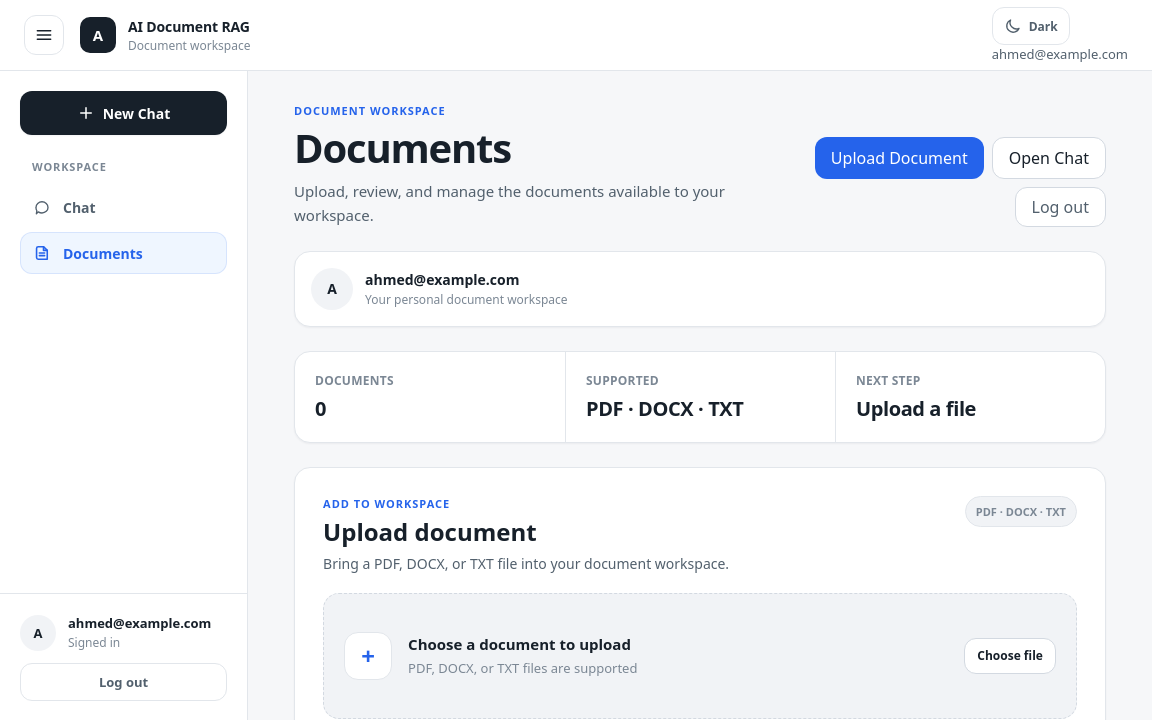
Test case: frontend authentication foundation › logs out from the shared shell
Expected: the heading "Documents" is shown, x1=294 y1=120 x2=511 y2=175
Step 1. Click the button with aria-label "Log out from application" → click(124, 682), box x1=20 y1=663 x2=227 y2=701
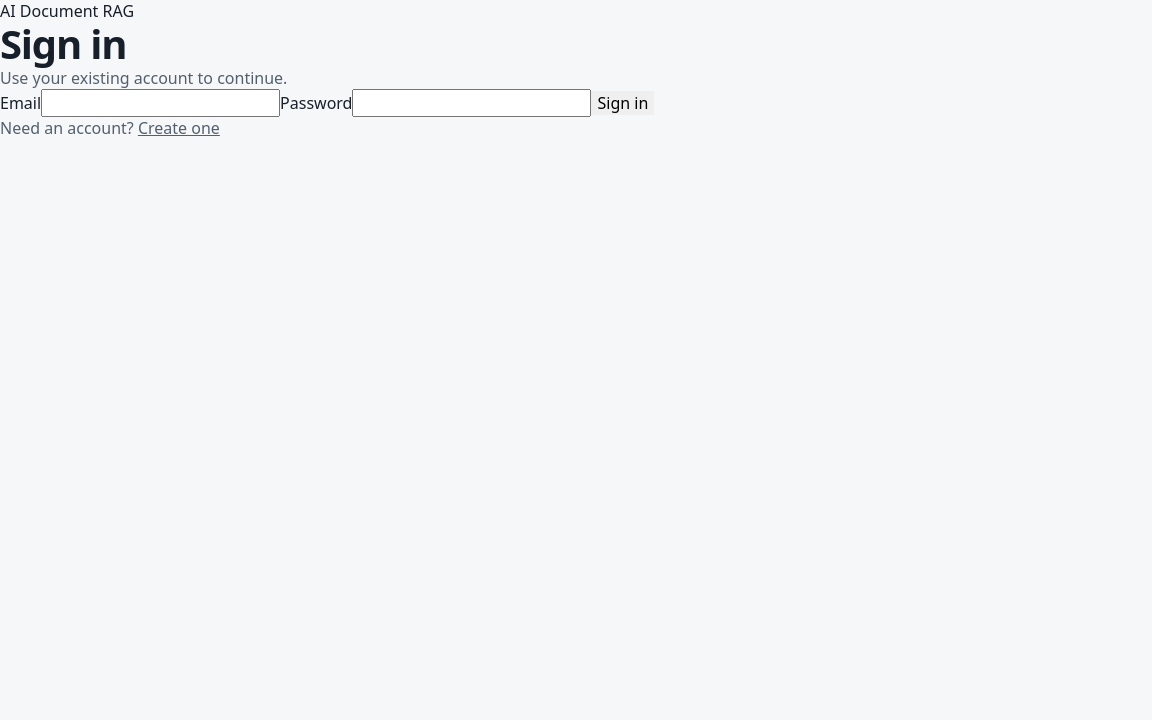
Now the heading "Sign in" is shown, box x1=0 y1=16 x2=126 y2=71
